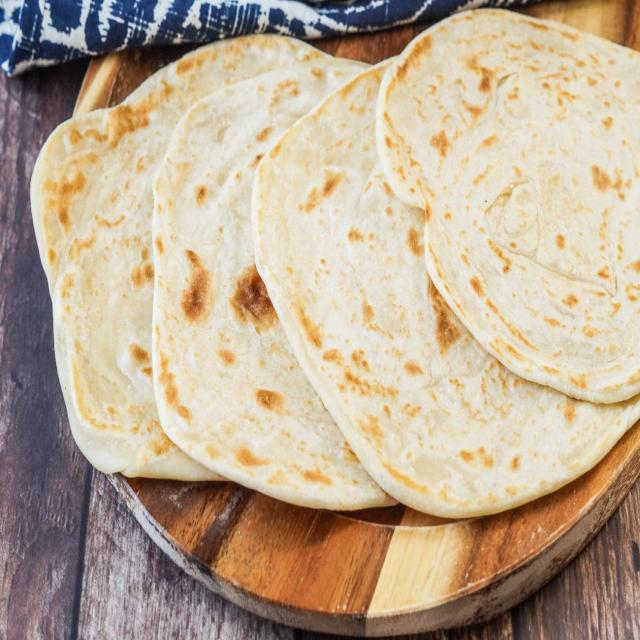CHAPATHI: (15, 11, 640, 524)
